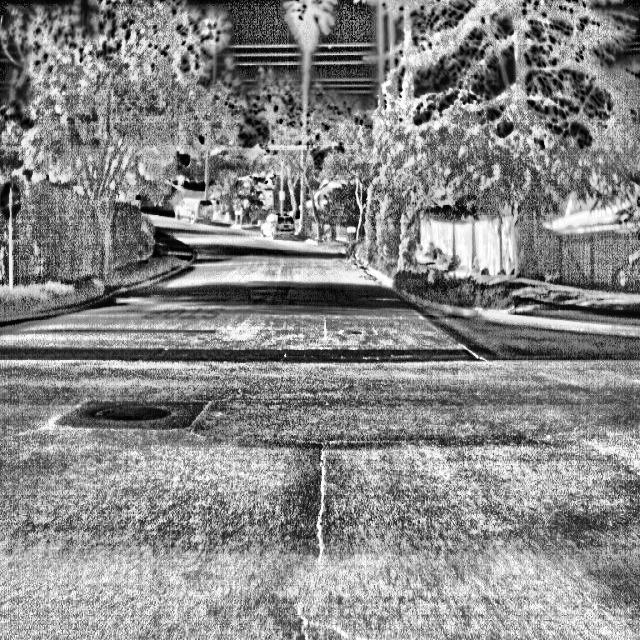car: (260, 202, 306, 252), (171, 190, 216, 233)
